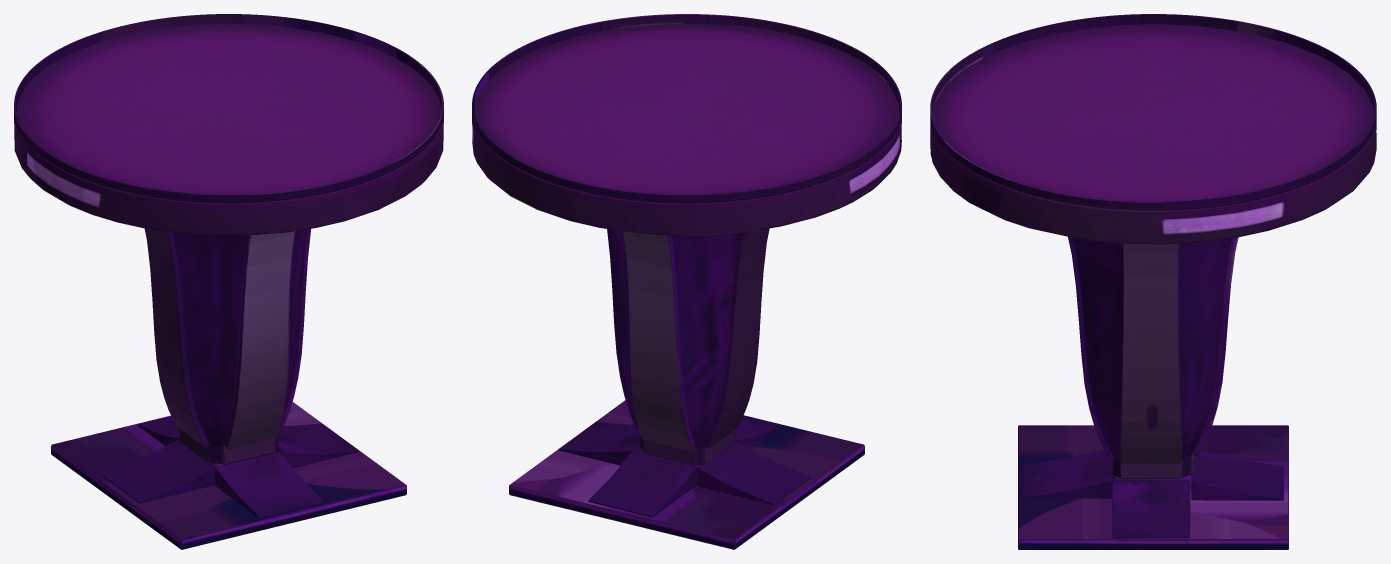
The model's file is edited_mesh.glb.
3 renders of one model, left to right at view 1: azimuth 30°, elevation 25°; view 2: azimuth 150°, elevation 25°; view 3: azimuth 270°, elevation 25°, orthographic. The views are drawn at different scales.
Parts seen in each view (by area): view 1: solid_001_wire; view 2: solid_001_wire; view 3: solid_001_wire.
Boxes of the visible parts, box(x1,y1,x2,y2) form: solid_001_wire: box(14, 14, 443, 549); solid_001_wire: box(472, 14, 901, 549); solid_001_wire: box(930, 14, 1376, 549).
Bounding box in the file's own units: 1.38 × 1.31 × 1.38.
1 material, 1 textured.
